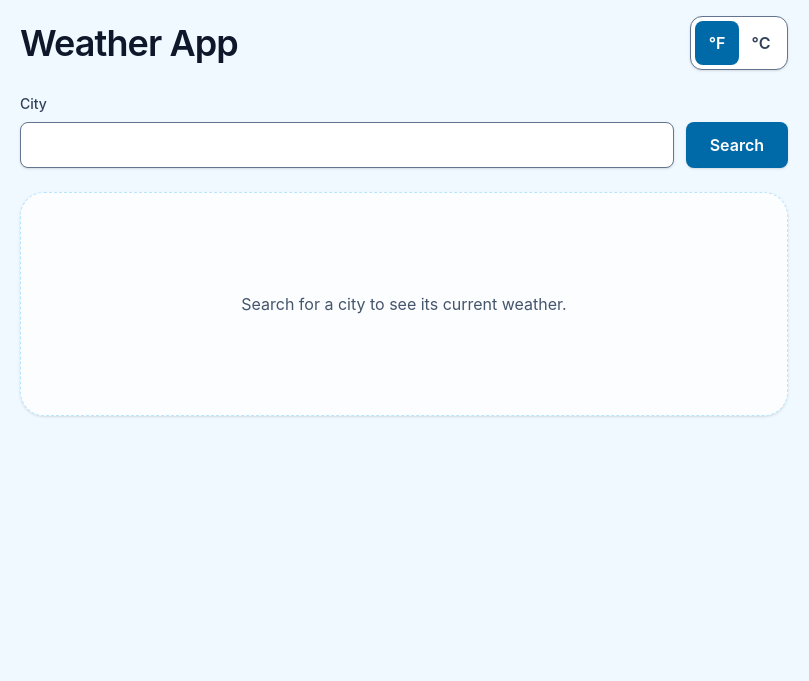
Test: App › uses a newly submitted location as the next retry target
The image size is (809, 681).
Type "Tampa" into the field labelled "City". click: (347, 145)
box: [20,122,674,168]
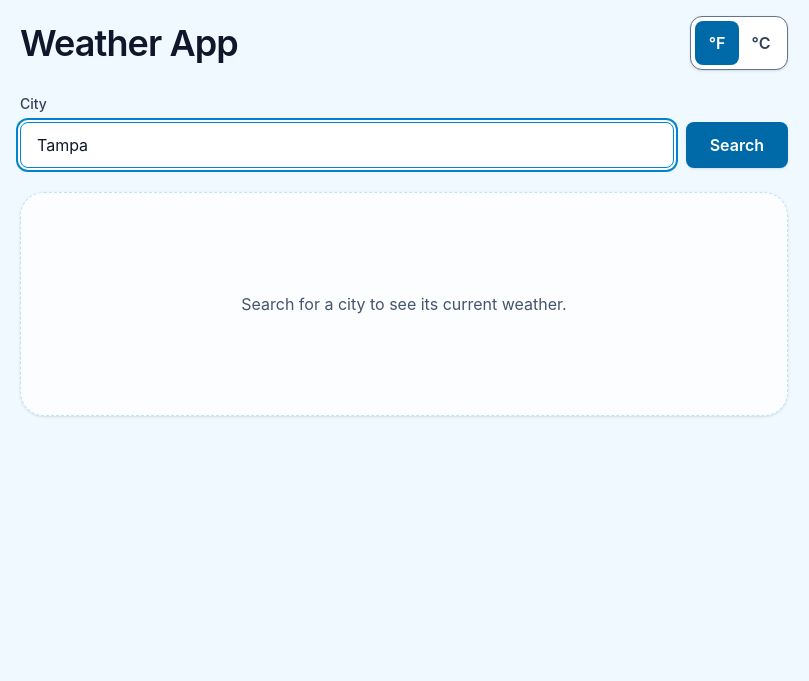
Click the button "Search". click: (737, 145)
box: [686,122,788,168]
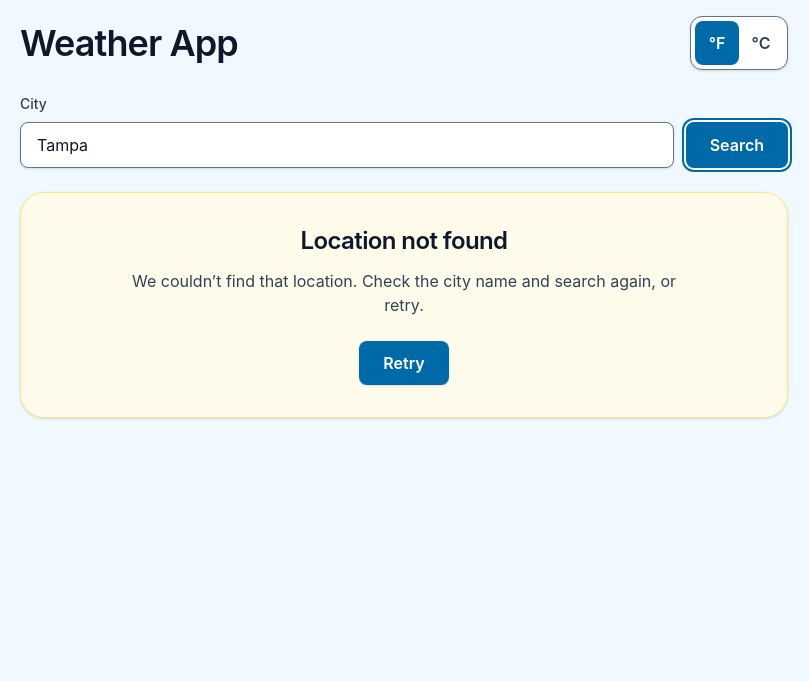
Now the heading "Location not found" is shown, box [300,226,508,255]
Replace the text in the field labelled "City" with "Orlando". click: (347, 145)
box: [20,122,674,168]
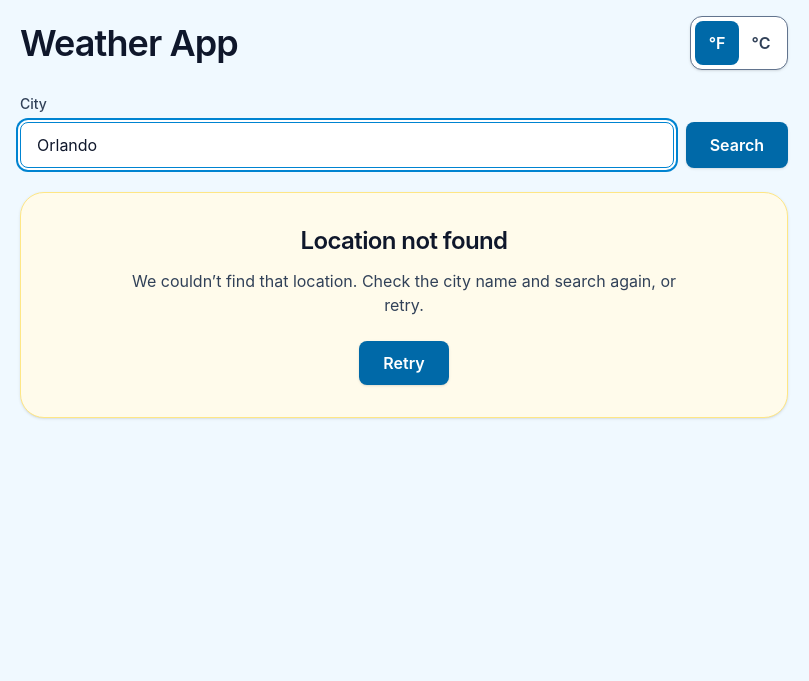
Click the button "Search". click: (737, 145)
box: [686,122,788,168]
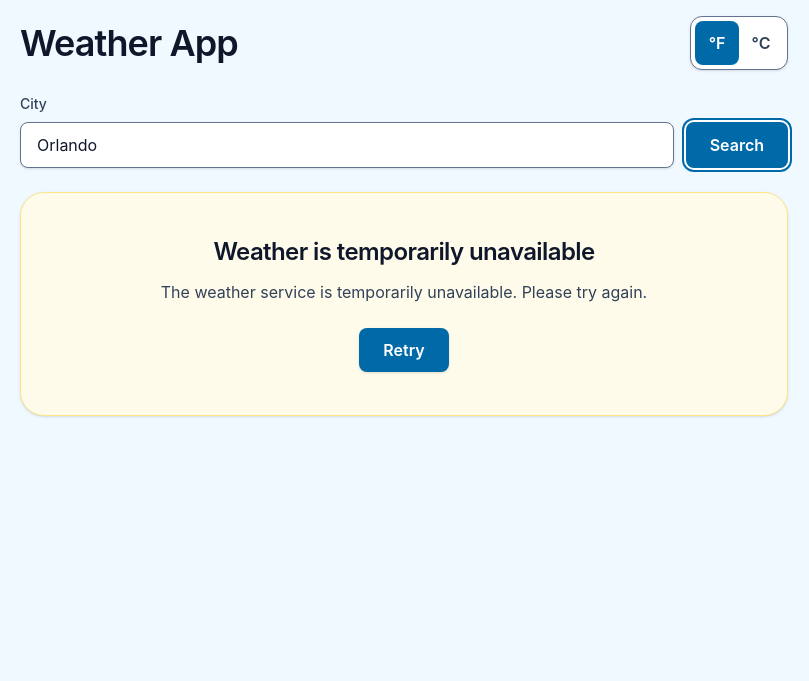
Now the heading "Weather is temporarily unavailable" is shown, box [213,237,594,266]
Click the button "Retry". click: (404, 350)
box: [359,328,449,372]
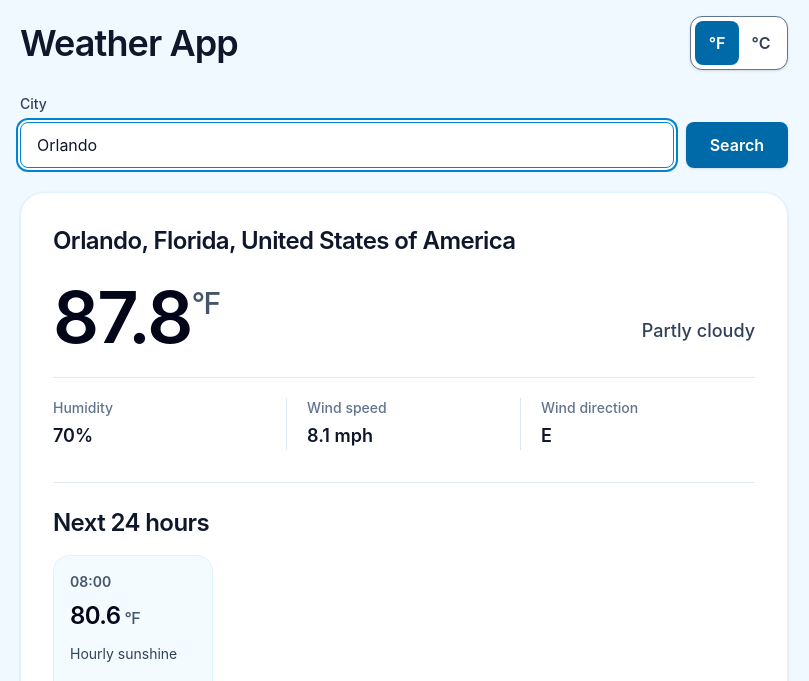
Now the heading named "Current weather for Orlando, Florida, United States of America" is shown, box [52,225,516,255]
